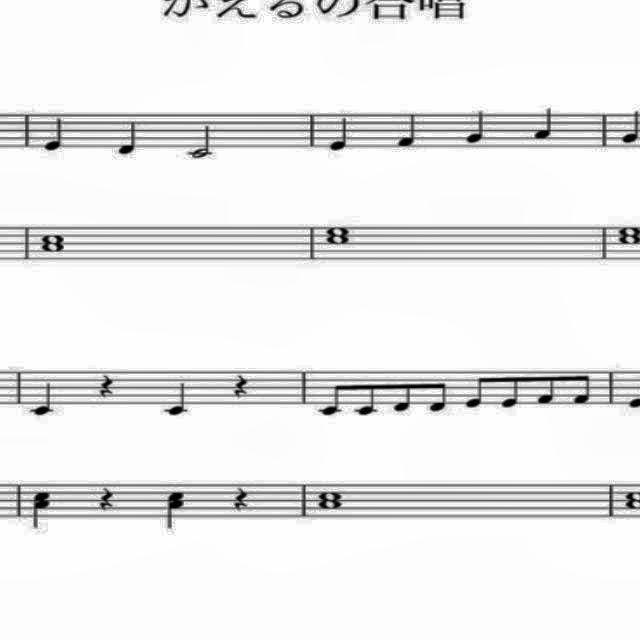Eighth-note: (494, 356, 526, 416), (314, 372, 346, 423), (352, 376, 383, 424), (426, 366, 454, 418), (391, 371, 415, 422), (535, 364, 559, 412), (568, 371, 596, 409), (464, 371, 488, 413)
Half-note: (182, 124, 218, 162)
Quarter-note: (158, 380, 202, 420), (27, 380, 63, 420), (460, 104, 492, 148), (38, 109, 68, 155), (324, 115, 356, 154), (530, 101, 558, 145), (394, 111, 422, 152), (115, 120, 142, 160), (615, 109, 640, 150), (639, 109, 640, 150)
Quarter-rest: (90, 362, 122, 402), (91, 482, 123, 516), (230, 366, 253, 400), (228, 482, 252, 514)
